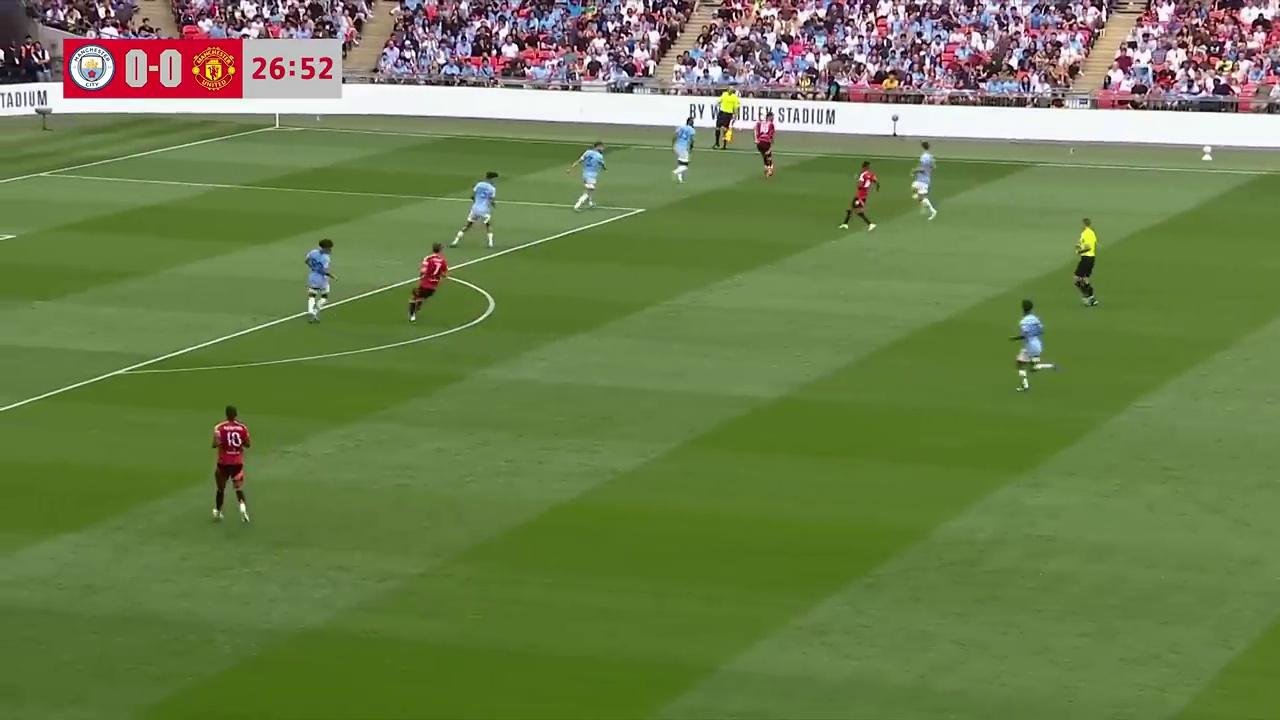player: (211, 405, 252, 525), (1012, 300, 1059, 391), (408, 243, 449, 321), (457, 171, 497, 246), (838, 161, 880, 231), (304, 239, 335, 322), (569, 142, 606, 210), (910, 143, 937, 220), (672, 122, 695, 182), (754, 118, 775, 177)
referee: (1072, 218, 1098, 304), (712, 93, 736, 151)
